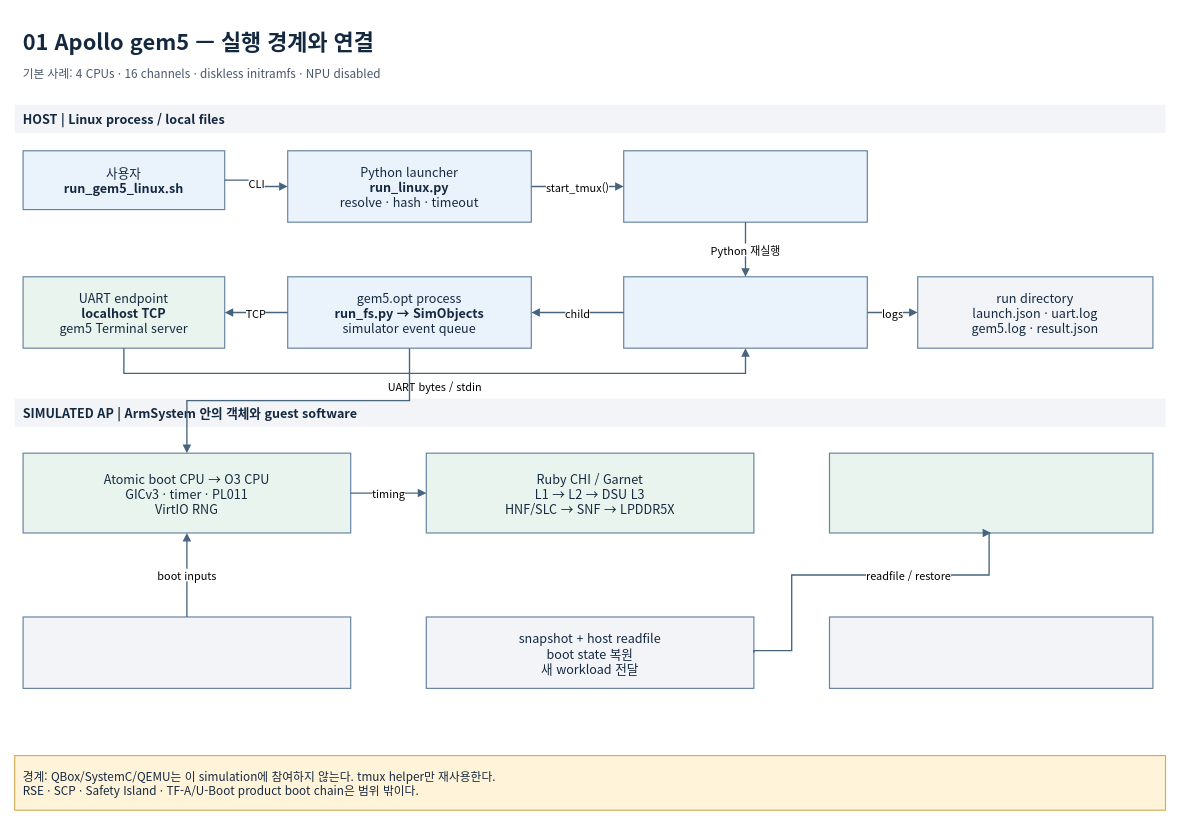
Some shapes in this 1181 by 825 pixel diagram are drawn without their labels. Each missing label, with the centre of its shape:
"Linux + initramfs /init gem5-control · benchmark CPU0 workload" goes at point 990,492.
"m5out/ config.json · stats.txt roi-events.json · exit.json" goes at point 990,652.
"tmux UI UART / platform log / shell F12 → session 종료" goes at point 745,186.
"UART pane 내부 --direct launcher child 생명주기 관리" goes at point 745,312.
"Yocto deploy inputs Image · zena_css4.elf nexios-gem5-initramfs CPIO" goes at point 186,652.
